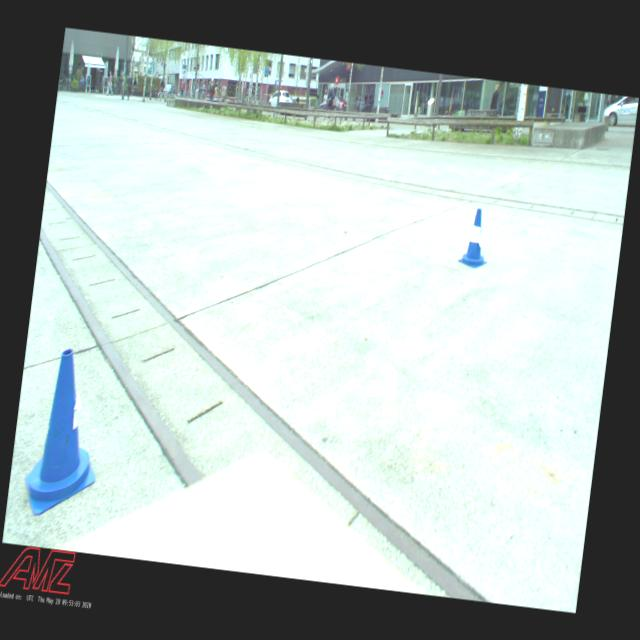blue_cone: (19, 344, 110, 524), (456, 205, 493, 270)
